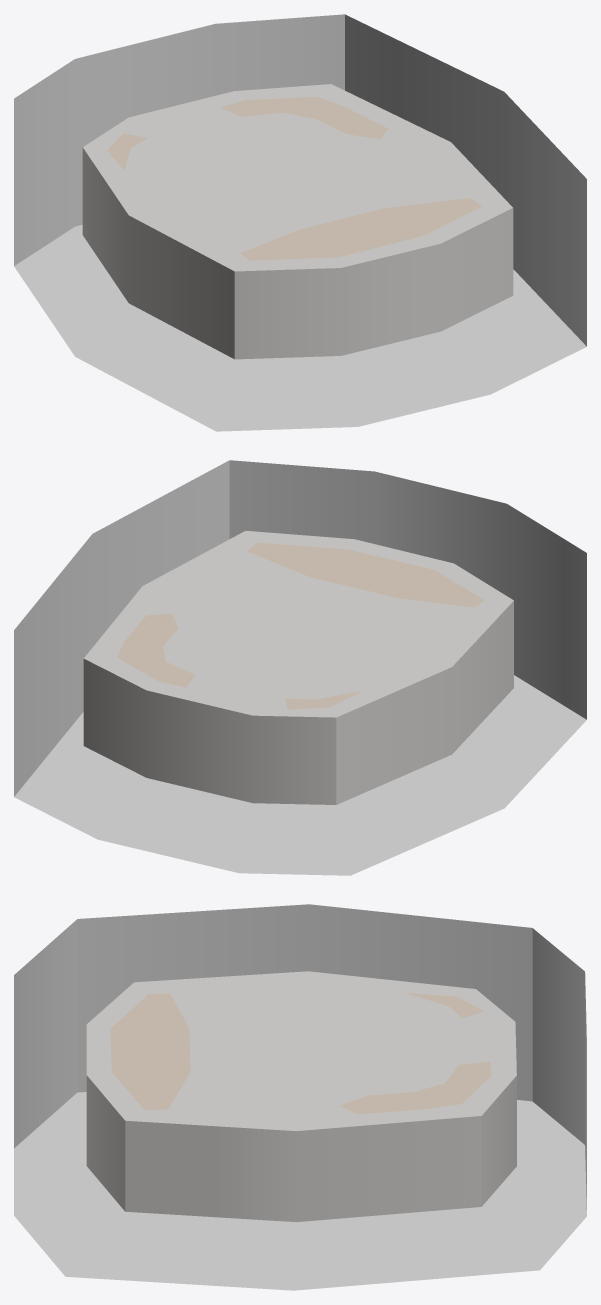
The model's file is Marshmallow.glb.
3 renders of one model, top to bottom at view 1: azimuth 30°, elevation 25°; view 2: azimuth 150°, elevation 25°; view 3: azimuth 270°, elevation 25°, orthographic. The views are drawn at different scales.
Visible parts, largest first — view 1: Marshmallow; view 2: Marshmallow; view 3: Marshmallow.
Part boxes in pixels (bbox=[...]): Marshmallow: bbox=[14, 14, 586, 431]; Marshmallow: bbox=[14, 460, 586, 875]; Marshmallow: bbox=[14, 904, 586, 1290].
Size of the model in its own units: 0.1687 by 0.0641 by 0.1919.
